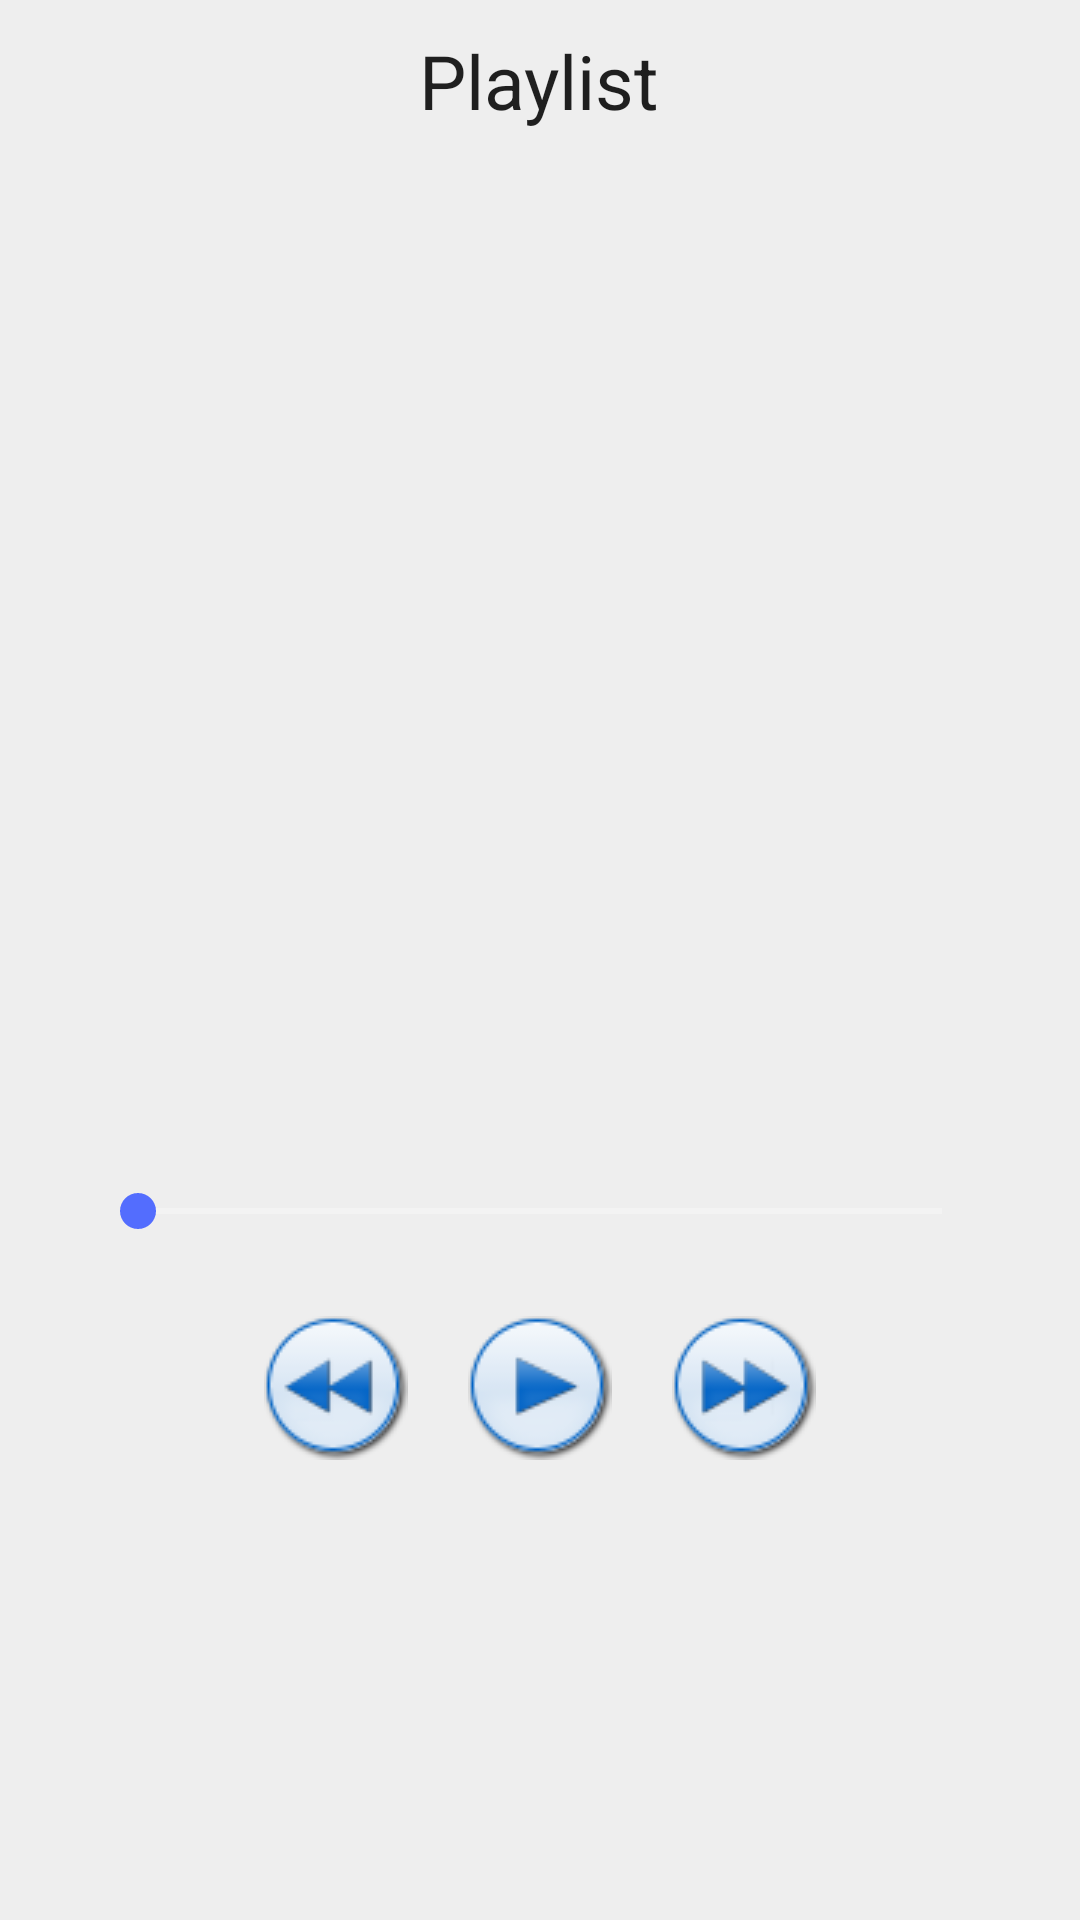

Named icons in this screenshot (1080x1920) and their bounding boxes, box(x1, y1, x2, y2):
forward: box(672, 1316, 816, 1460)
play: box(468, 1316, 612, 1460)
rewind: box(264, 1316, 408, 1460)
